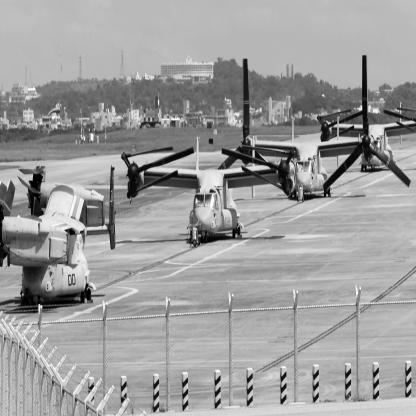V22: (219, 55, 412, 201), (122, 138, 297, 244), (1, 166, 117, 312), (317, 103, 416, 173)
